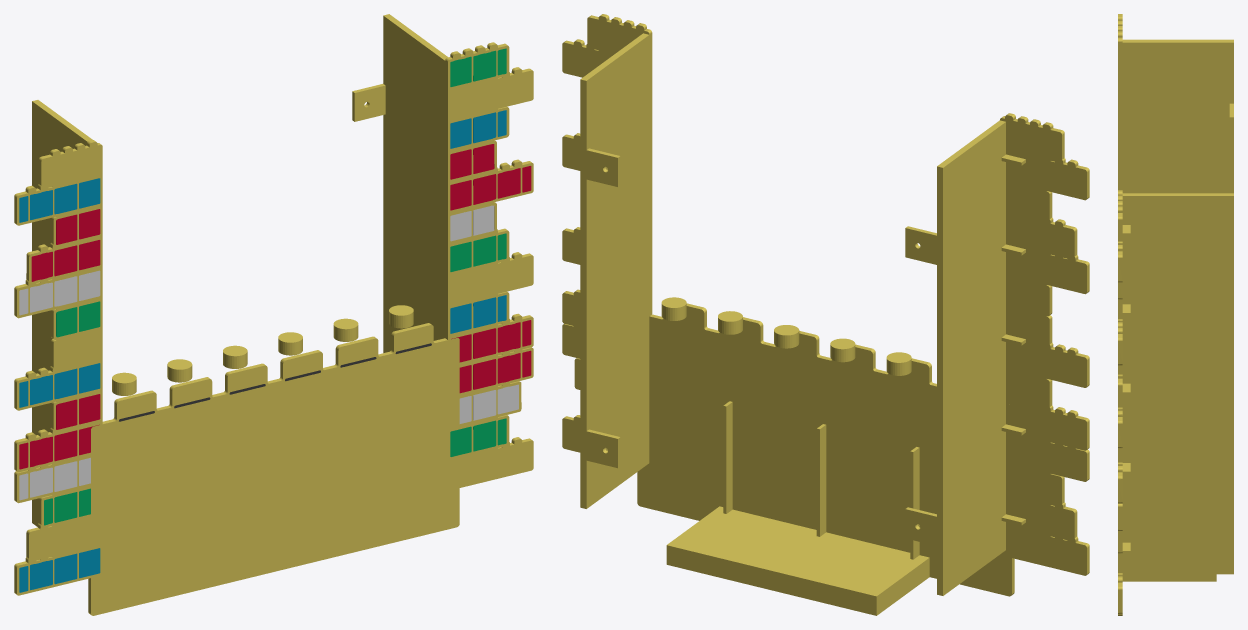
File: parts.glb
3 renders of one model, left to right at view 1: azimuth 30°, elevation 25°; view 2: azimuth 150°, elevation 25°; view 3: azimuth 270°, elevation 25°, orthographic. The views are drawn at different scales.
Visible parts, largest first — view 1: topper__base, wing_right__base, wing_left__base, wing_right__red, wing_left__blue, wing_left__red, wing_right__green, wing_left__white, wing_right__blue, wing_right__white, wing_left__green, topper__black; view 2: topper__base, wing_left__base, wing_right__base; view 3: wing_right__base, wing_left__base, topper__base.
Part boxes in pixels (x1,y1,x2,y2): topper__base: [88, 305, 459, 615]; wing_right__base: [352, 14, 533, 487]; wing_left__base: [14, 100, 102, 595]; wing_right__red: [450, 144, 531, 393]; wing_left__blue: [19, 178, 100, 592]; wing_left__red: [19, 209, 100, 469]; wing_right__green: [450, 48, 506, 456]; wing_left__white: [19, 270, 100, 500]; wing_right__blue: [450, 110, 506, 333]; wing_right__white: [450, 205, 518, 423]; wing_left__green: [44, 301, 100, 525]; topper__black: [119, 343, 431, 421]; topper__base: [637, 297, 1014, 615]; wing_left__base: [905, 113, 1089, 595]; wing_right__base: [562, 14, 652, 508]; wing_right__base: [1118, 190, 1233, 613]; wing_left__base: [1118, 14, 1233, 193]; topper__base: [1118, 574, 1216, 615].
Bounding box in the file's own units: 337 × 295 × 73.
